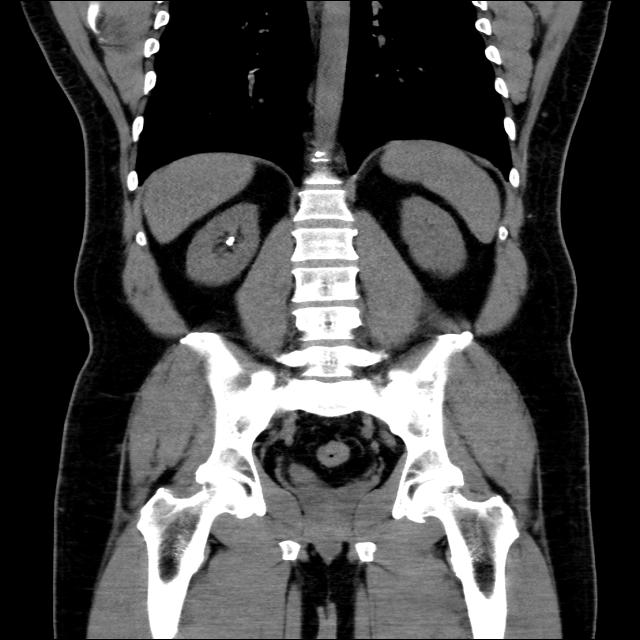kidneystone: (225, 236, 235, 246)
